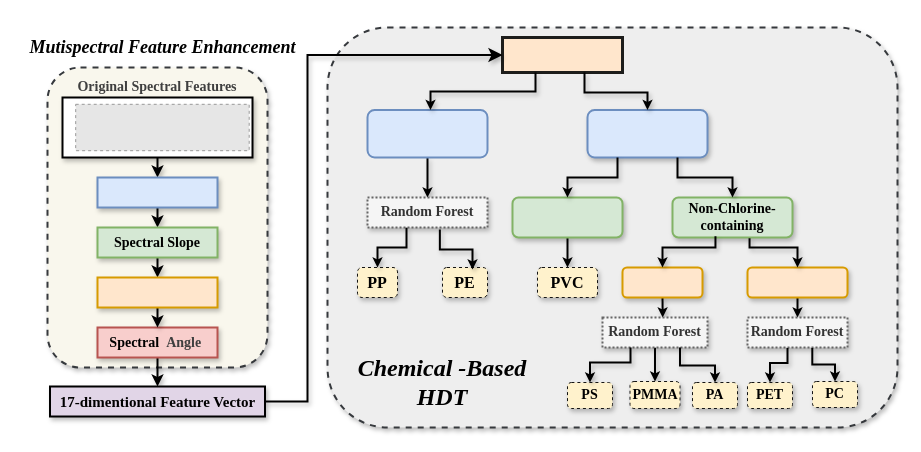
The diagram is 921 pixels wide and 452 high, and some of its shapes have lost their labels. Grey dashed boxes stand in for pictures. Each missing label, with the centre of its shape:
"Aromatic" goes at (x=663, y=283).
"Chlorine-containing" goes at (x=568, y=218).
"HSE-Tree" goes at (x=562, y=55).
"Non-Aromatic" goes at (x=798, y=283).
"Non-Polar Hydrocarbons" goes at (x=427, y=133).
"Polar Hydrocarbons" goes at (x=648, y=134).
"Spectral Indices" goes at (x=158, y=293).
"Spectral Ratios" goes at (x=158, y=193).
